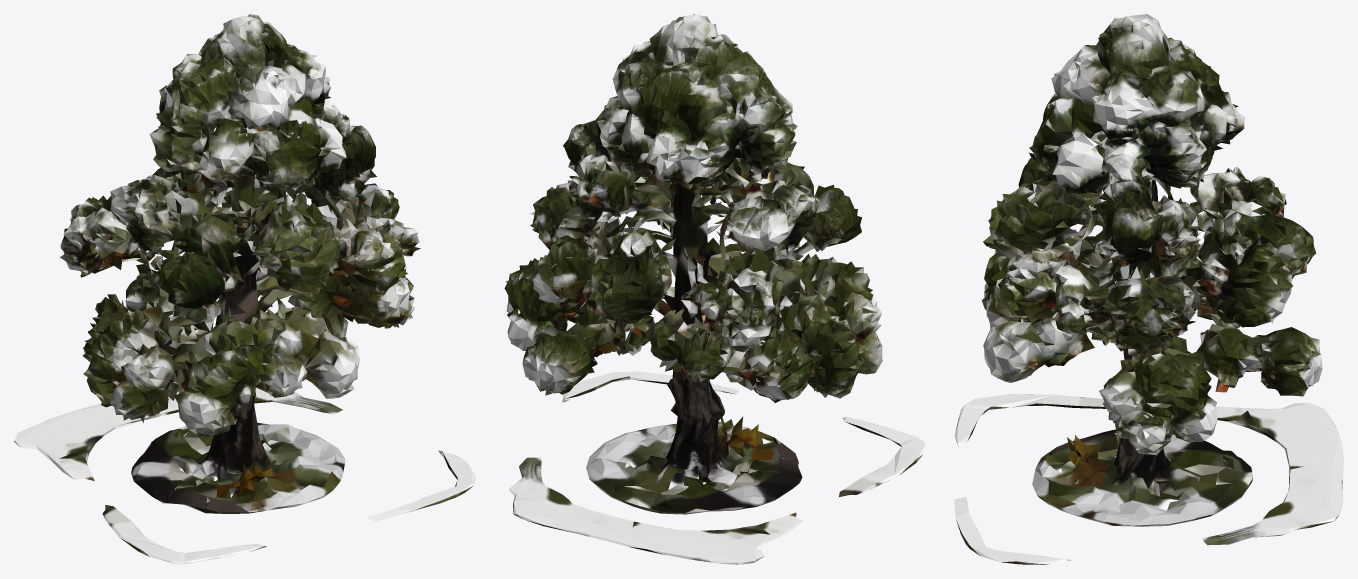
File: traveler_env_coast_castle_snow_pine_00001_.glb
3 renders of one model, left to right at view 1: azimuth 30°, elevation 25°; view 2: azimuth 150°, elevation 25°; view 3: azimuth 270°, elevation 25°, orthographic. The views are drawn at different scales.
Visible parts, largest first — view 1: temp_mesh.ply; view 2: temp_mesh.ply; view 3: temp_mesh.ply.
Boxes of the visible parts, box(x1,y1,x2,y2) form: temp_mesh.ply: box(14, 14, 475, 564); temp_mesh.ply: box(504, 14, 925, 564); temp_mesh.ply: box(954, 14, 1343, 564).
Size of the model in its own units: 1.53 by 1.94 by 1.45.
1 material, 1 textured.
